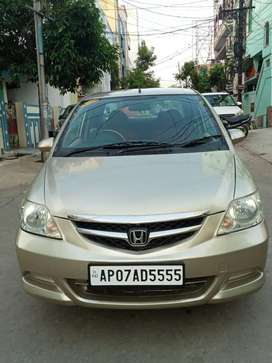AP07AD5555: (90, 265, 183, 285)
